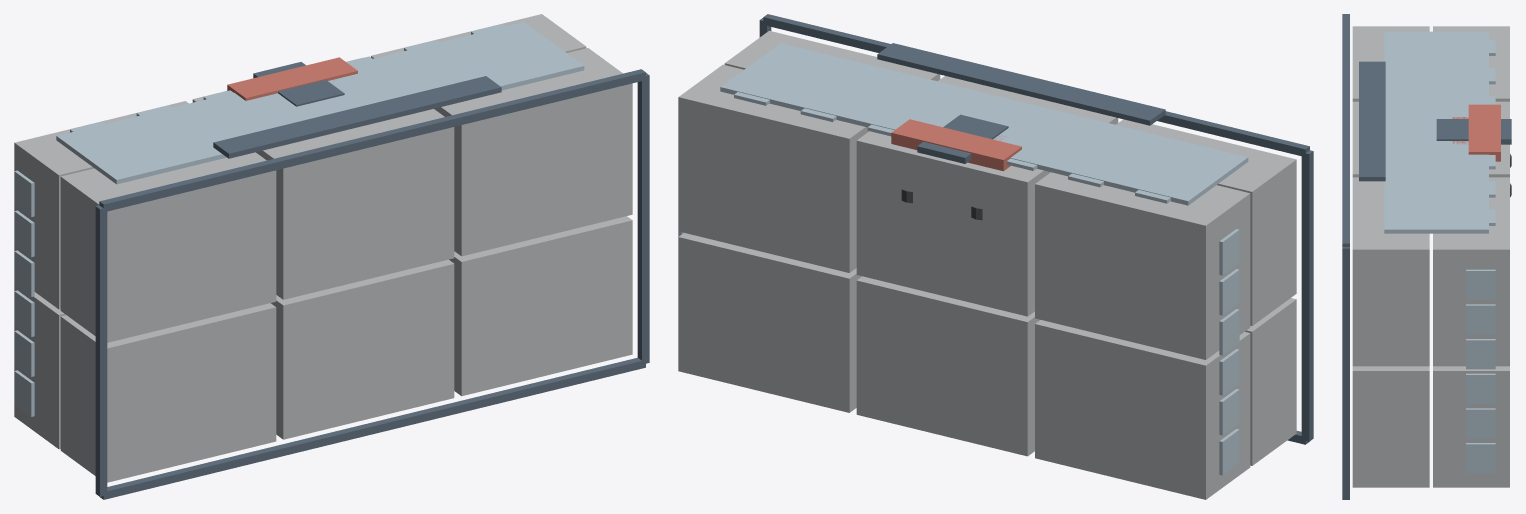
File: building-car-dealership.glb
3 views of the same model, side by side, from view 1: azimuth 30°, elevation 25°; view 2: azimuth 150°, elevation 25°; view 3: azimuth 270°, elevation 25° (orthographic). The views are drawn at different scales.
Parts seen in each view (by area): view 1: world; view 2: world; view 3: world.
Part boxes in pixels (x1,y1,x2,y2): world: [14, 14, 649, 499]; world: [678, 14, 1313, 499]; world: [1342, 14, 1511, 499].
Size of the model in its own units: 20.56 by 10.95 by 6.32.
